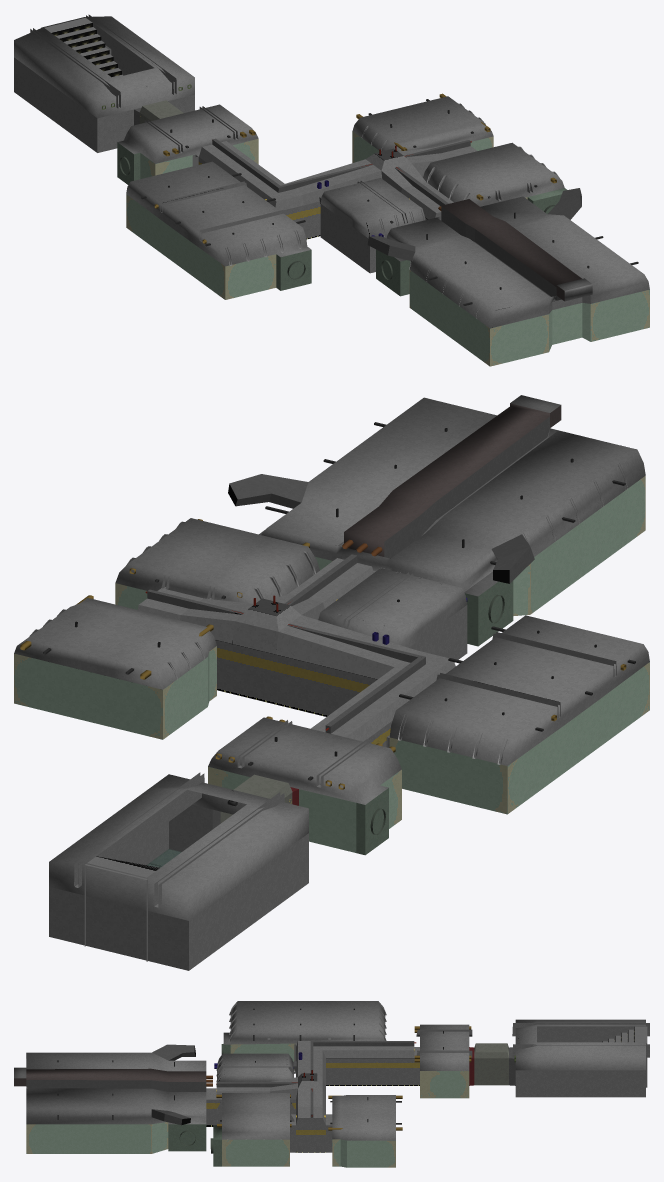
Rendered from bunker.glb.
The picture shows the model from 3 angles, top to bottom: view 1: azimuth 30°, elevation 25°; view 2: azimuth 150°, elevation 25°; view 3: azimuth 270°, elevation 25°; orthographic projection. The views are drawn at different scales.
Parts seen in each view (by area): view 1: bunker-walls, bunker-stairs, bunker-borders, bunker-pipes; view 2: bunker-walls, bunker-borders, bunker-pipes, bunker-stairs, lamps; view 3: bunker-walls, bunker-stairs, bunker-pipes, bunker-borders.
Part boxes in pixels (<box>): bunker-walls: <box>14,14,649,366</box>; bunker-stairs: <box>41,17,122,77</box>; bunker-borders: <box>225,103,559,318</box>; bunker-pipes: <box>102,84,556,243</box>; bunker-walls: <box>14,395,649,970</box>; bunker-borders: <box>29,463,627,764</box>; bunker-pipes: <box>20,519,626,789</box>; bunker-stairs: <box>84,856,159,961</box>; lamps: <box>43,422,635,806</box>; bunker-walls: <box>14,1001,649,1167</box>; bunker-stairs: <box>602,1026,647,1087</box>; bunker-pipes: <box>206,1026,515,1130</box>; bunker-borders: <box>216,1003,386,1140</box>.
Size of the model in its own units: 33.47 by 6.11 by 69.11.
Materials: 10 (8 with a texture image).
